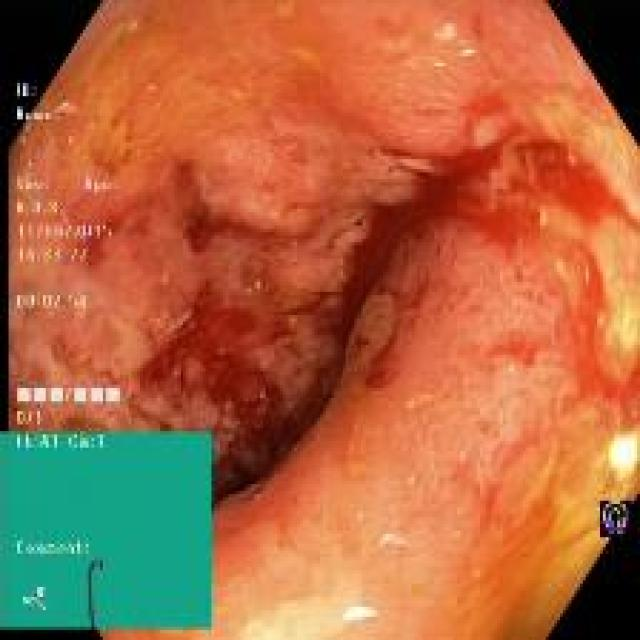ulcerative-colitis-grade-3: (10, 3, 640, 638)
